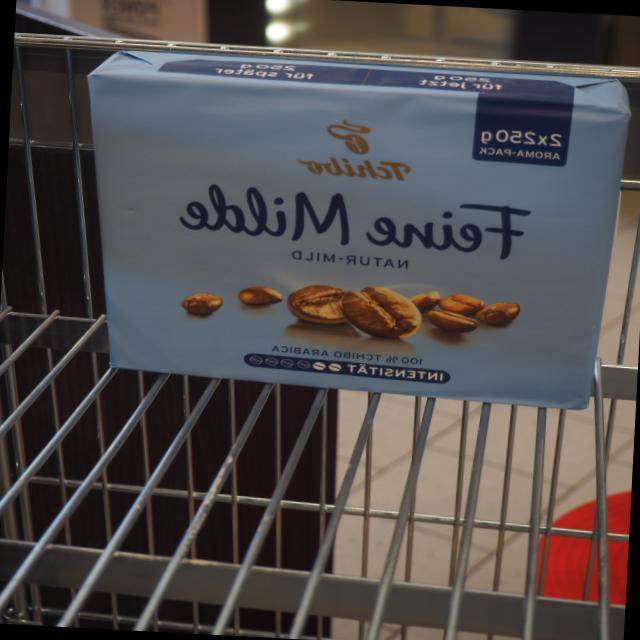FM Gemahlen: (83, 40, 640, 417)
